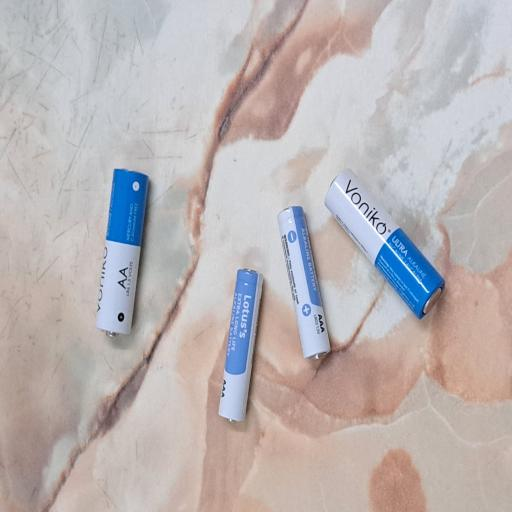battery: (143, 428, 259, 512), (131, 122, 258, 198), (111, 366, 233, 442), (67, 288, 185, 352)
